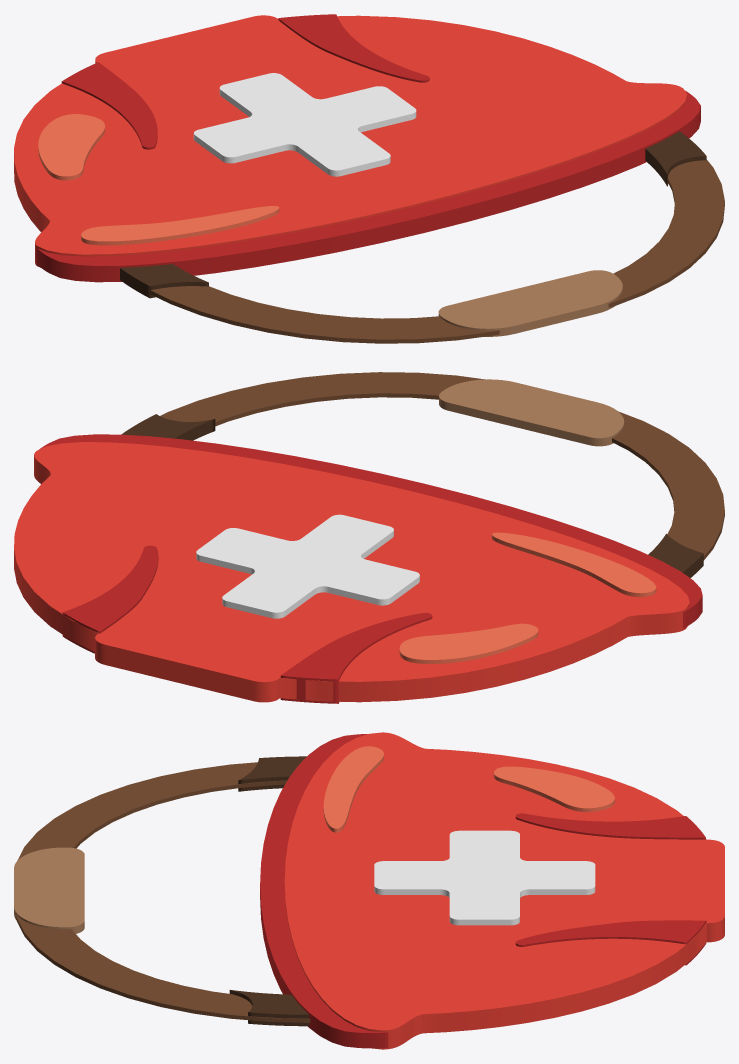
File: emoji_u26d1.glb
3 renders of one model, top to bottom at view 1: azimuth 30°, elevation 25°; view 2: azimuth 150°, elevation 25°; view 3: azimuth 270°, elevation 25°, orthographic. The views are drawn at different scales.
Visible parts, largest first — view 1: emoji_u26d1; view 2: emoji_u26d1; view 3: emoji_u26d1.
Part boxes in pixels (x1,y1,x2,y2): emoji_u26d1: (14,14,724,343); emoji_u26d1: (14,372,724,703); emoji_u26d1: (14,732,724,1049).
Size of the model in its own units: 0.0336 by 0.0016 by 0.0337.
